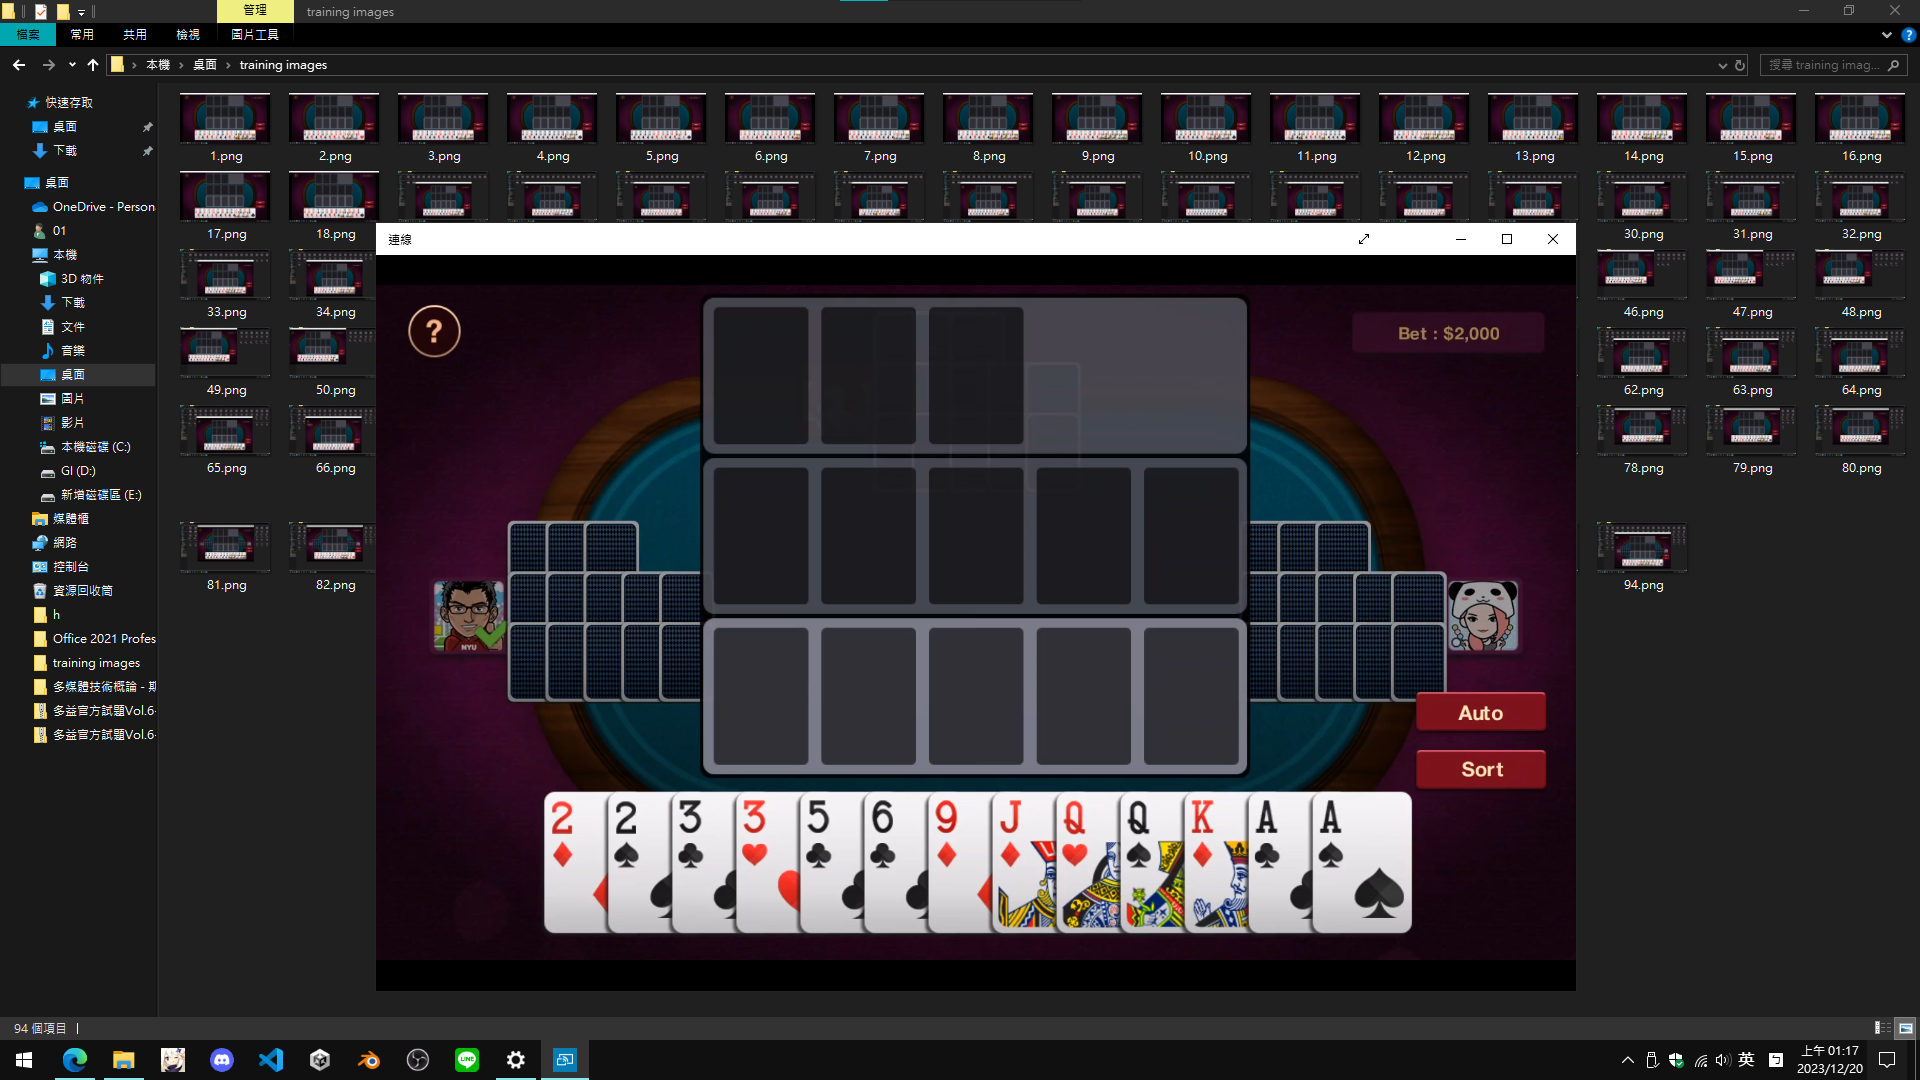2D: (549, 796, 576, 869)
2S: (611, 799, 641, 876)
3C: (676, 795, 707, 874)
3H: (738, 798, 770, 873)
5C: (804, 798, 835, 877)
6C: (868, 795, 901, 872)
9D: (934, 798, 960, 870)
AC: (1251, 796, 1283, 876)
AS: (1316, 798, 1346, 872)
JD: (997, 799, 1026, 872)
KD: (1189, 796, 1216, 870)
QH: (1062, 798, 1091, 869)
QS: (1124, 798, 1155, 872)
